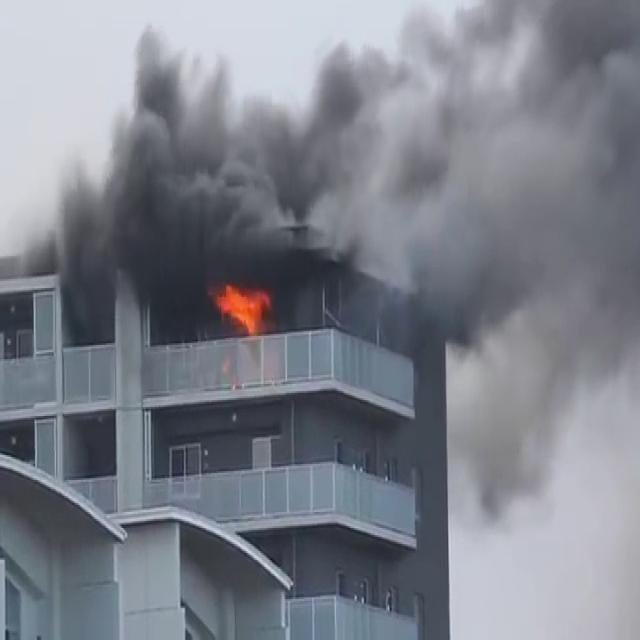Fire: (210, 274, 275, 336)
Smoke: (26, 3, 638, 356)
